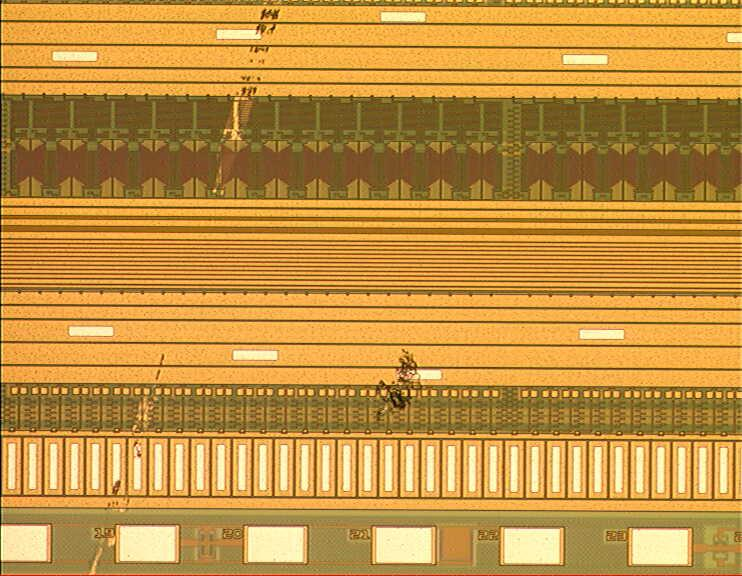SCRATCH: (80, 1, 445, 576)
